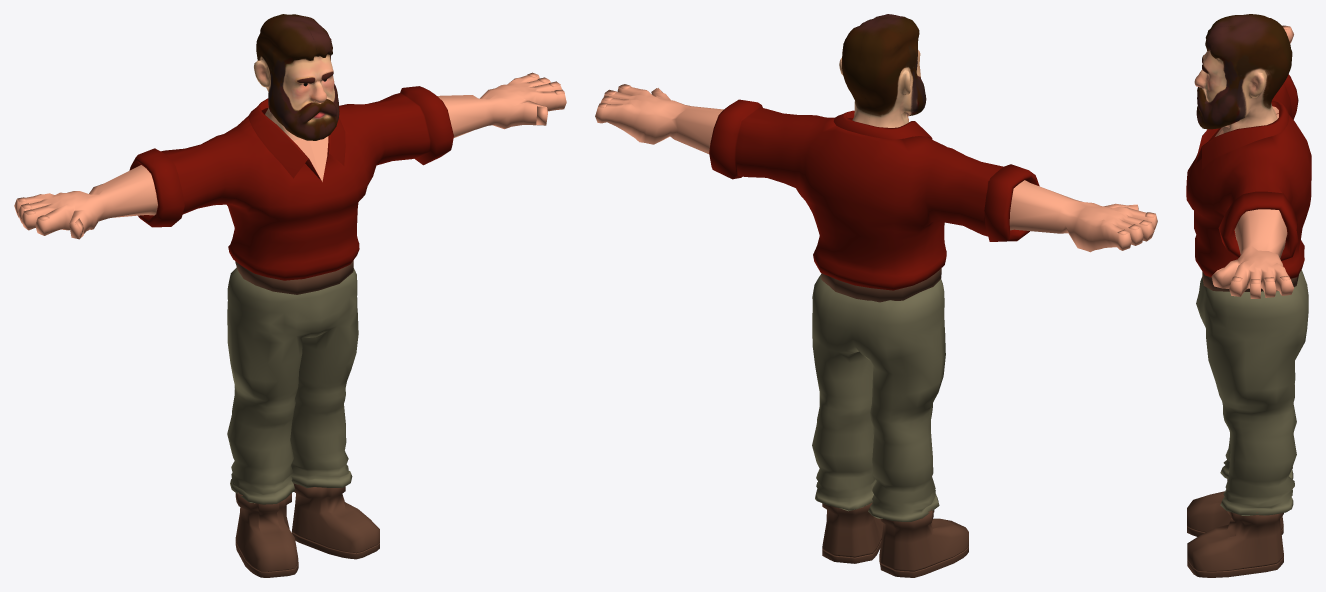
The model's file is ormancığğoyo.fbx.
3 views of the same model, side by side, from view 1: azimuth 30°, elevation 25°; view 2: azimuth 150°, elevation 25°; view 3: azimuth 270°, elevation 25° (orthographic).
Parts seen in each view (by area): view 1: govde, pantolon, el, bot, kafaa, kemer, kafaa.001; view 2: govde, pantolon, el, kafaa, bot, kemer; view 3: pantolon, govde, kafaa, bot, el, kemer.
Boxes of the visible parts, x1,y1,x2,y2 form: govde: (129,86,453,280); pantolon: (227,267,358,504); el: (14,72,566,239); bot: (235,483,379,577); kafaa: (254,14,339,140); kemer: (235,260,353,294); kafaa.001: (291,136,328,181); govde: (709,99,1039,290); pantolon: (812,274,945,521); el: (595,84,1157,252); kafaa: (839,14,926,127); bot: (822,502,968,577); kemer: (821,268,941,302); pantolon: (1196,269,1308,515); govde: (1186,74,1311,278); kafaa: (1194,14,1292,133); bot: (1187,479,1283,577); el: (1211,25,1293,298); kemer: (1202,271,1298,291).
Bounding box in the file's own units: 481 × 449 × 96.77.
6 materials, 1 textured.
